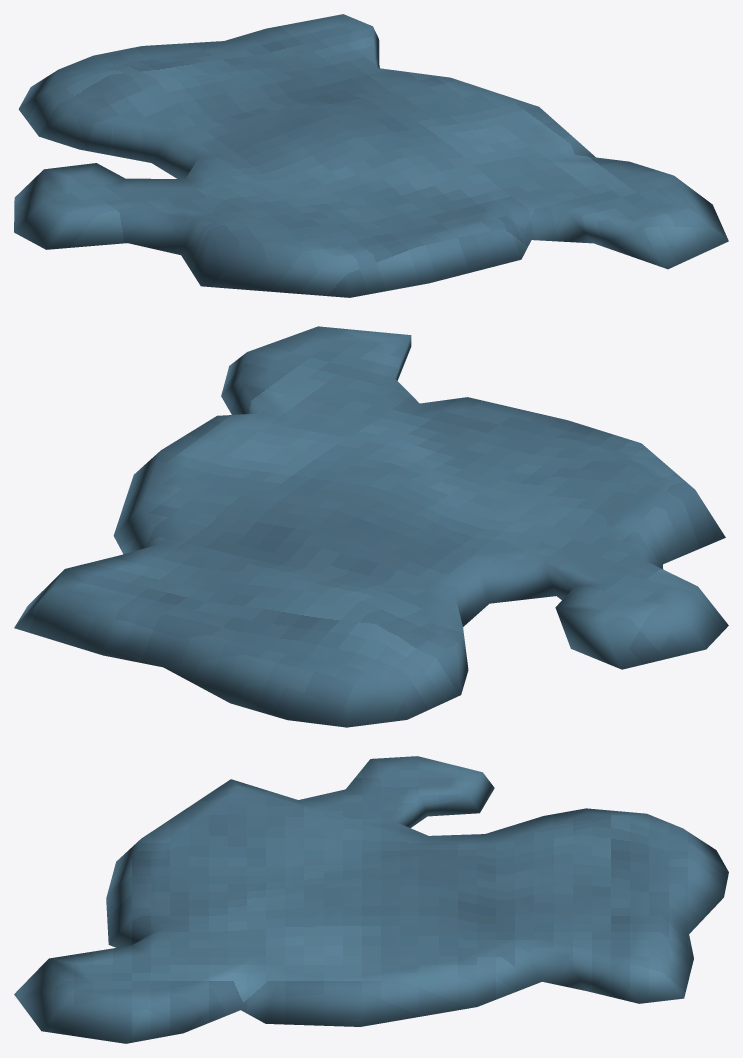
Rendered from Puddle.fbx.
3 renders of one model, top to bottom at view 1: azimuth 30°, elevation 25°; view 2: azimuth 150°, elevation 25°; view 3: azimuth 270°, elevation 25°, orthographic. The views are drawn at different scales.
Visible parts, largest first — view 1: Plane.005; view 2: Plane.005; view 3: Plane.005.
Boxes of the visible parts, x1,y1,x2,y2 form: Plane.005: (14, 14, 728, 297); Plane.005: (14, 326, 728, 727); Plane.005: (14, 756, 728, 1043).
Size of the model in its own units: 135 by 10.52 by 149.
